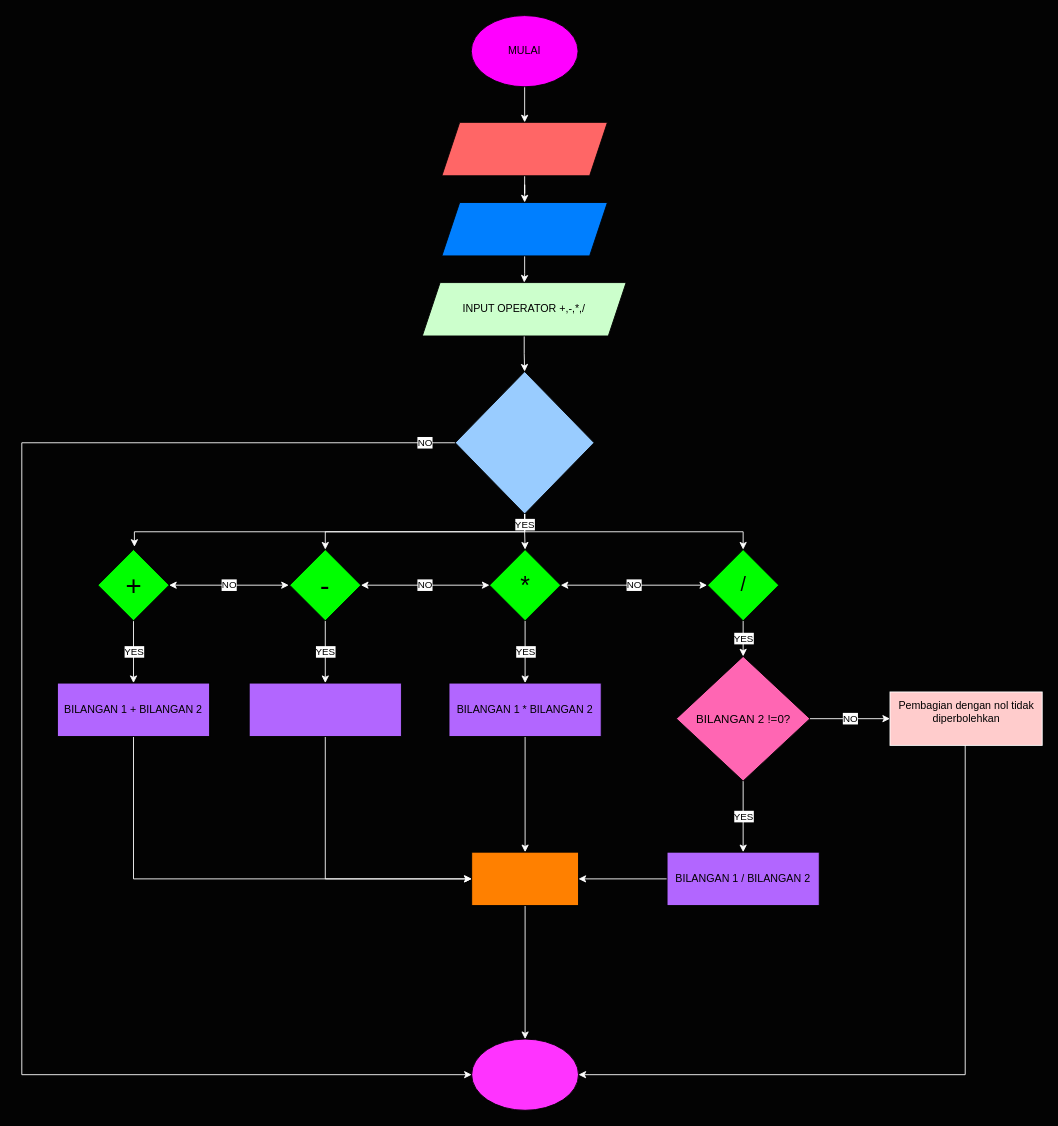
Image size: 1058x1126. Some labels were removed from this diagram. The shapes that lost their labels are listed below. From the top down, each one's centre as x and y in pixels, then its label:
[524,148]: INPUT BILANGAN 1
[524,229]: INPUT BILANGAN 2
[524,442]: OPERATOR VALID?
[324,709]: BILANGAN 1 - BILANGAN 2
[524,878]: HITUNG HASIL
[524,1074]: SELESAI
